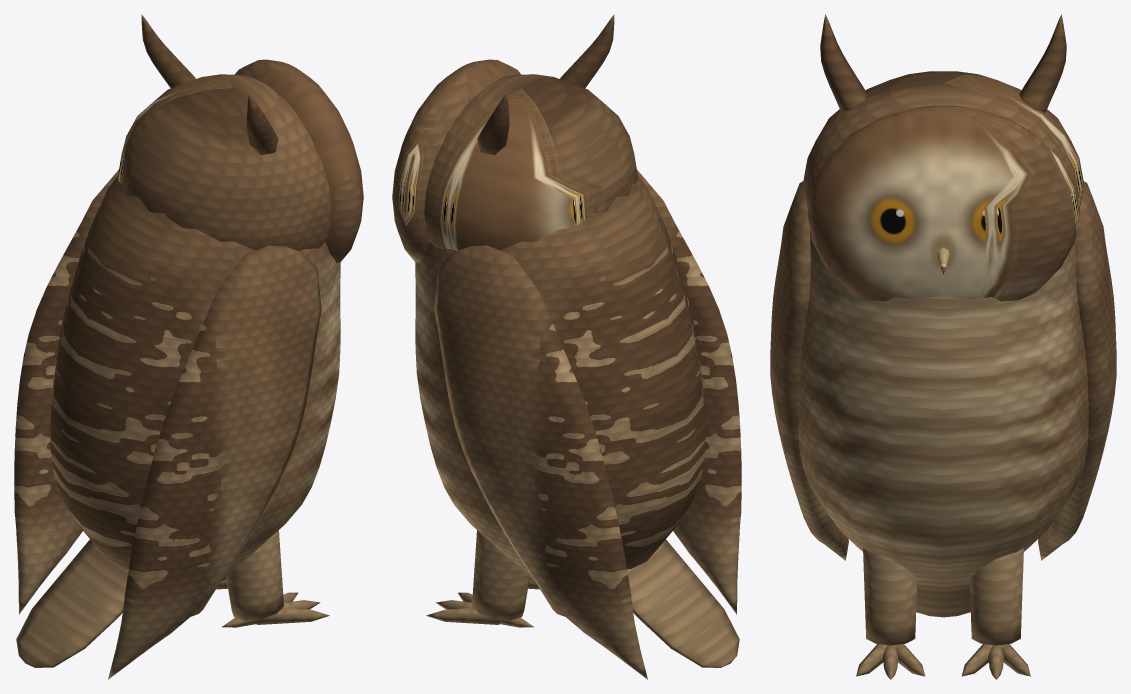
Rendered from owl.fbx.
3 renders of one model, left to right at view 1: azimuth 30°, elevation 25°; view 2: azimuth 150°, elevation 25°; view 3: azimuth 270°, elevation 25°, orthographic. The views are drawn at different scales.
Parts seen in each view (by area): view 1: owl; view 2: owl; view 3: owl.
Part boxes in pixels (left/top/right/bottom): owl: left=14, top=14, right=363, bottom=679; owl: left=392, top=14, right=741, bottom=679; owl: left=770, top=14, right=1116, bottom=679.
Bounding box in the file's own units: 25.1 × 29.11 × 50.
Materials: 1 (1 with a texture image).
